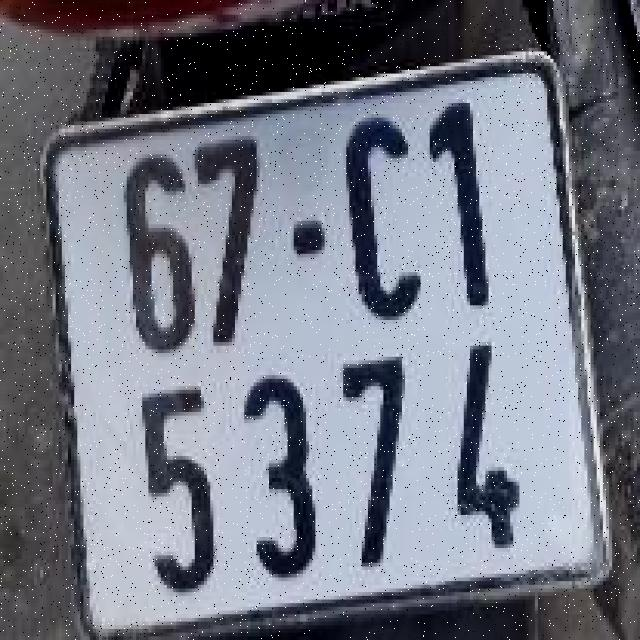1: (423, 84, 522, 323)
3: (232, 357, 337, 588)
4: (442, 320, 541, 563)
5: (113, 368, 246, 618)
6: (110, 149, 199, 370)
7: (336, 338, 428, 585), (187, 138, 271, 355)
C: (332, 112, 428, 326)
